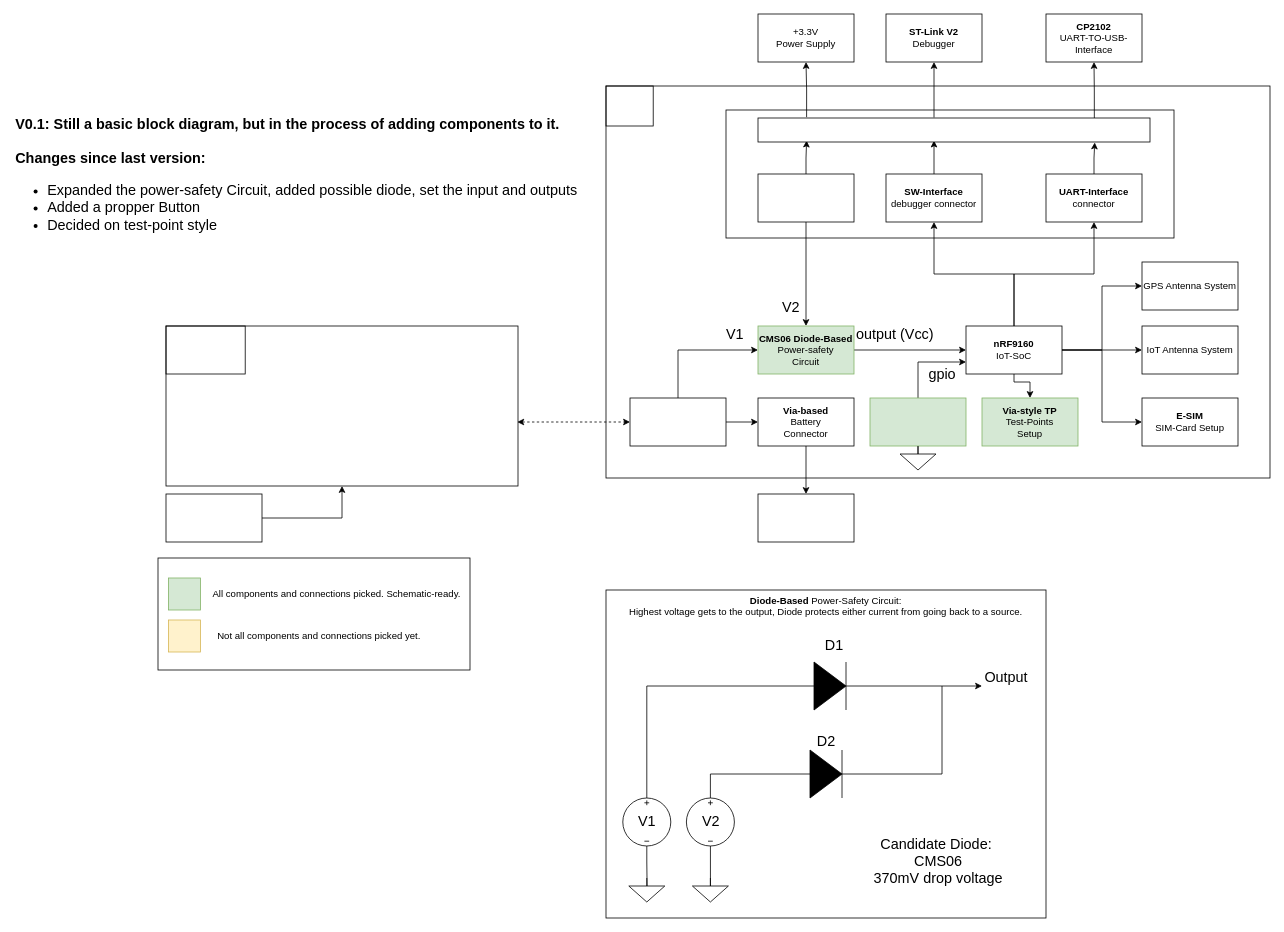
Image size: 1284x932. Some labels were removed from this diagram. The centre of each missing label's shape, as x and y in pixels:
220V Power Supply: the point at 213,517
Custom PCB: the point at 629,105
External Power connector: the point at 805,197
Li-Ion Battery: the point at 805,517
LTC4124 Wireless Battery Charger-System: the point at 677,421
PinHeader Interface: the point at 953,129
TL3312NF160Q Button: the point at 917,421
Wireless Battery Charger (Transmitter): the point at 205,349
